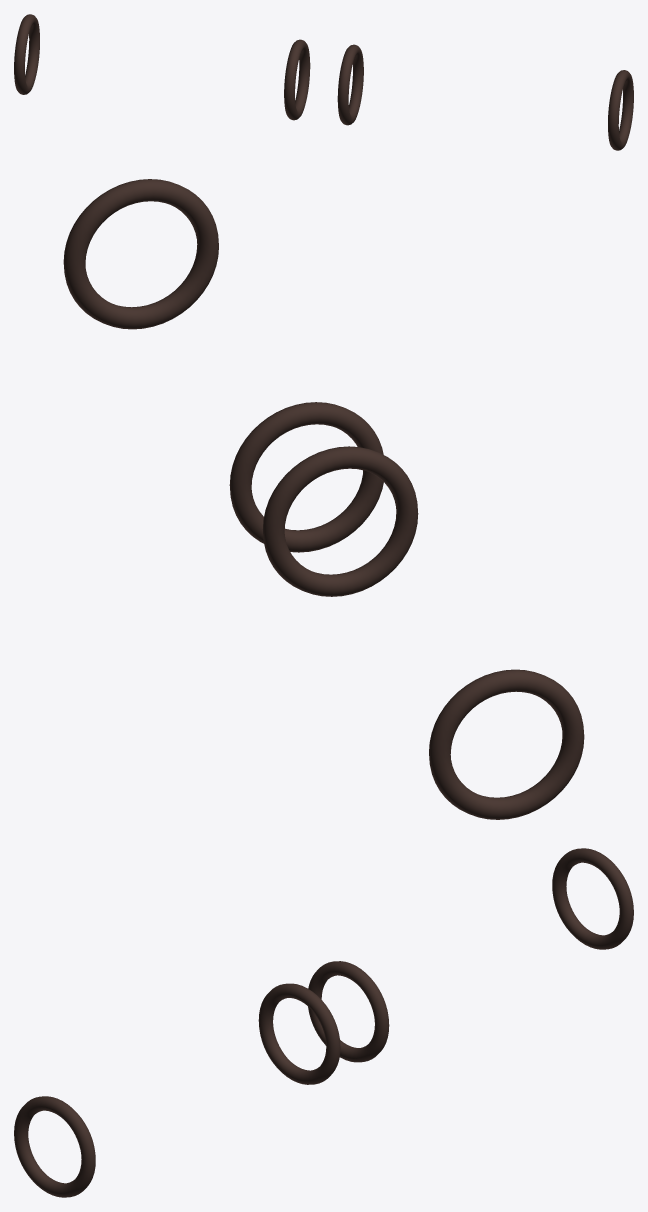
Rendered from door_rings.glb.
3 renders of one model, top to bottom at view 1: azimuth 30°, elevation 25°; view 2: azimuth 150°, elevation 25°; view 3: azimuth 270°, elevation 25°, orthographic. The views are drawn at different scales.
Parts seen in each view (by area): view 1: BézierCircle; view 2: BézierCircle; view 3: BézierCircle.
Part boxes in pixels (x1,y1,x2,y2): BézierCircle: (14,14,633,150); BézierCircle: (63,179,584,819); BézierCircle: (14,848,633,1197).
Size of the model in its own units: 9.37 by 1.5 by 8.77.
